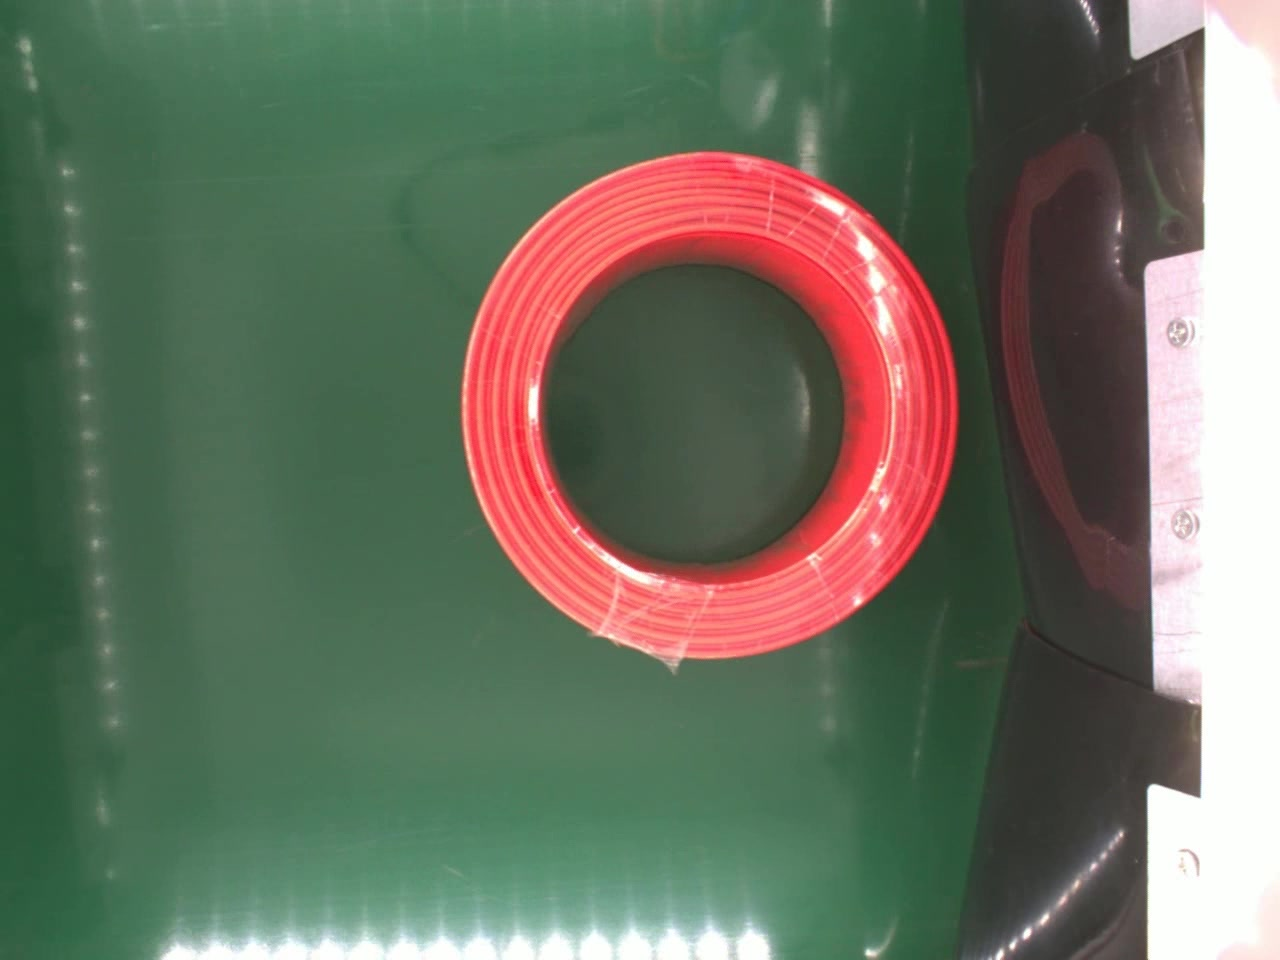red: (458, 146, 961, 661)
